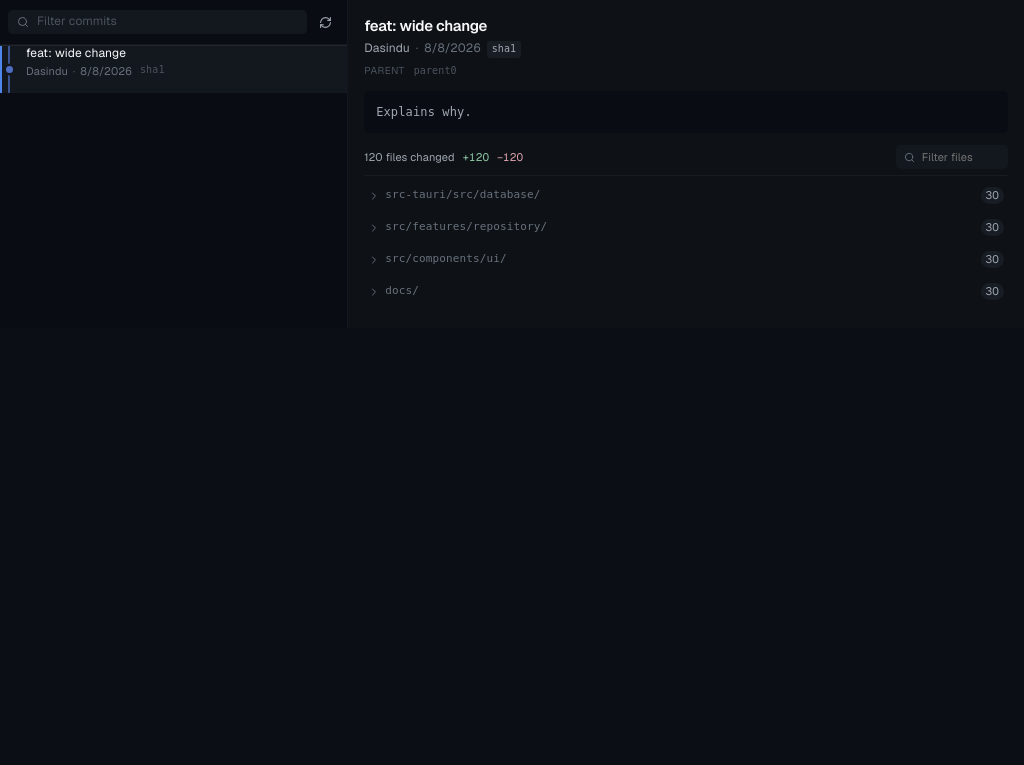
Test: commit history and inspector › folds a large commit into collapsed directory groups with a filter
Expected: the text "120 files changed" is shown, [364,150,455,164]
Click the button "src-tauri/src/database/ 30". click: (463, 195)
box: [364,182,1008,208]
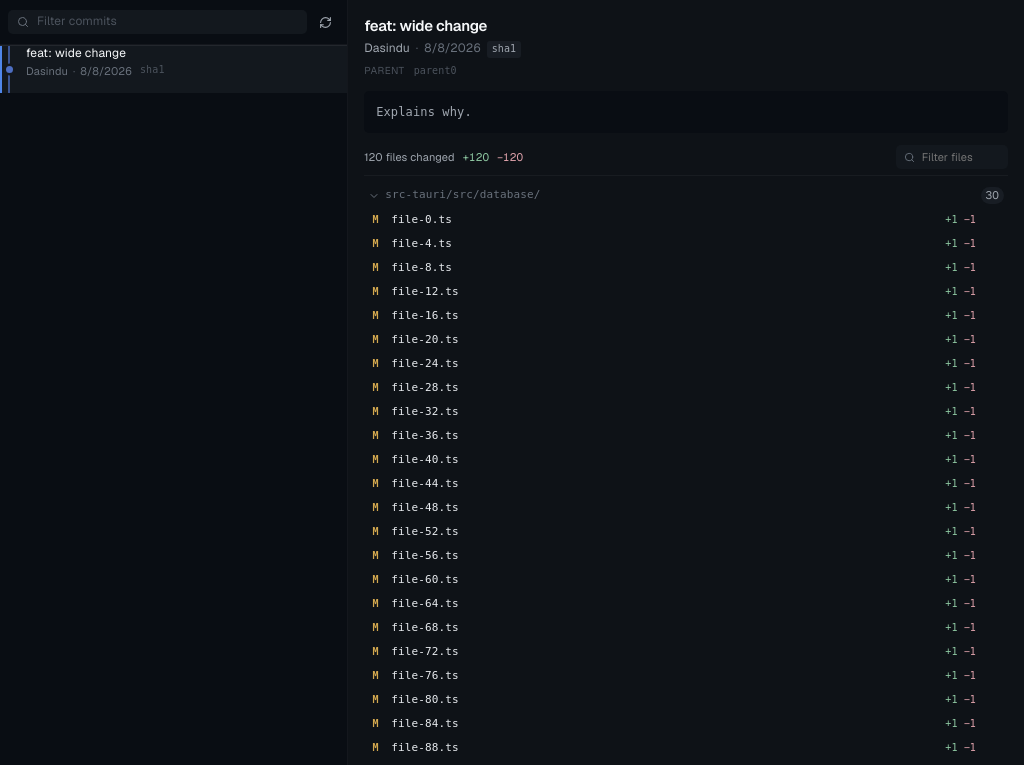
Now the button "src-tauri/src/database/ 30" is expanded, box [364,182,1008,208]
Now the text titled "src-tauri/src/database/file-0.ts" is shown, box [391,213,452,226]
# Filtering narrows to the matching files and opens the groups that still have any.
Type "file-7." into the field named "Filter changed files". click: (960, 157)
box: [920,149,1000,165]
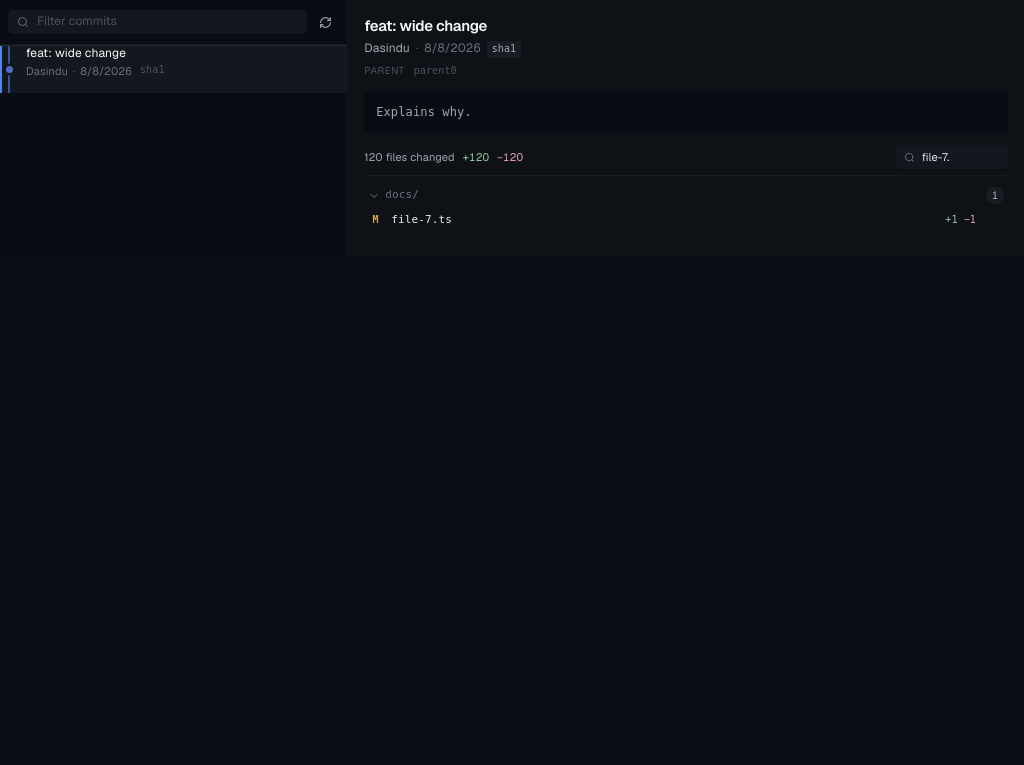
Now the text titled "docs/file-7.ts" is shown, box [391,213,452,226]
